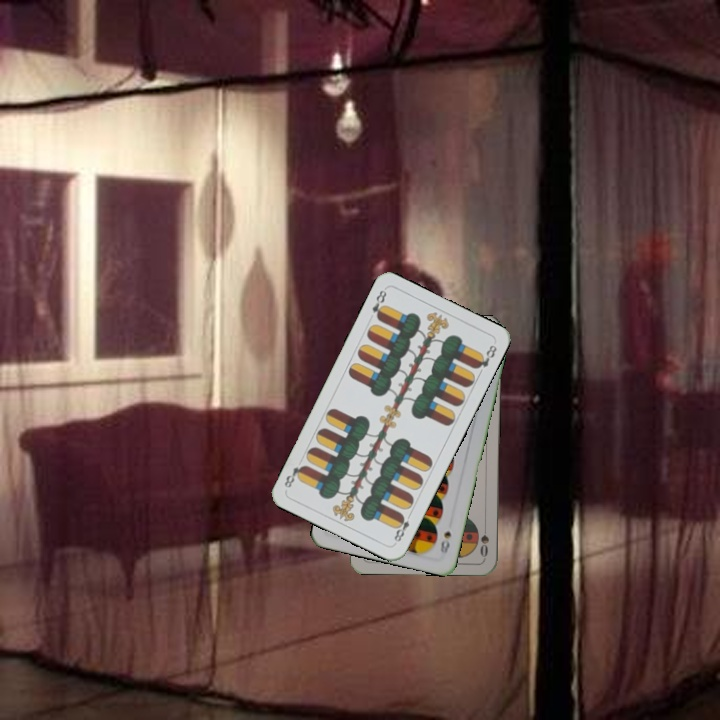E8: (390, 508, 414, 546), (368, 286, 389, 323)
S8: (436, 527, 454, 558)
SO: (476, 519, 491, 559)
